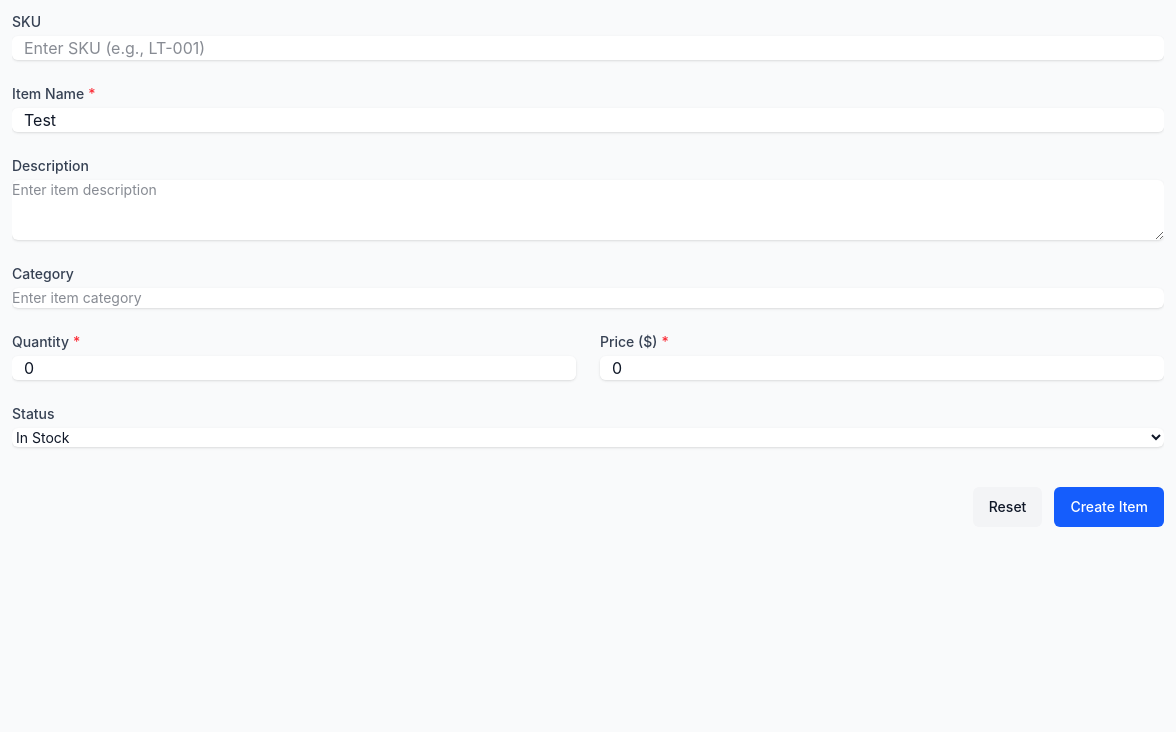
Test: ItemForm › shows error message for negative price
This screenshot has width=1176, height=732.
Replace the text in the number field labelled "Price ($) *" with "-10" at (882, 368), box [600,356,1164,380]
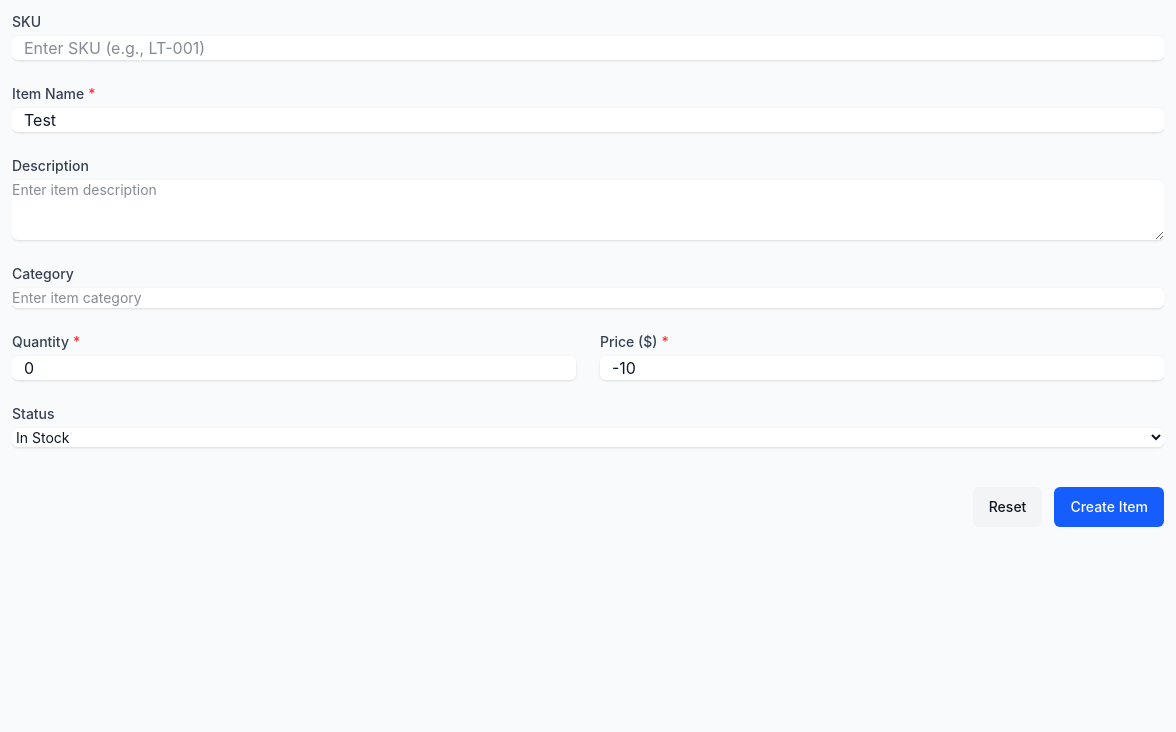
Submit the form
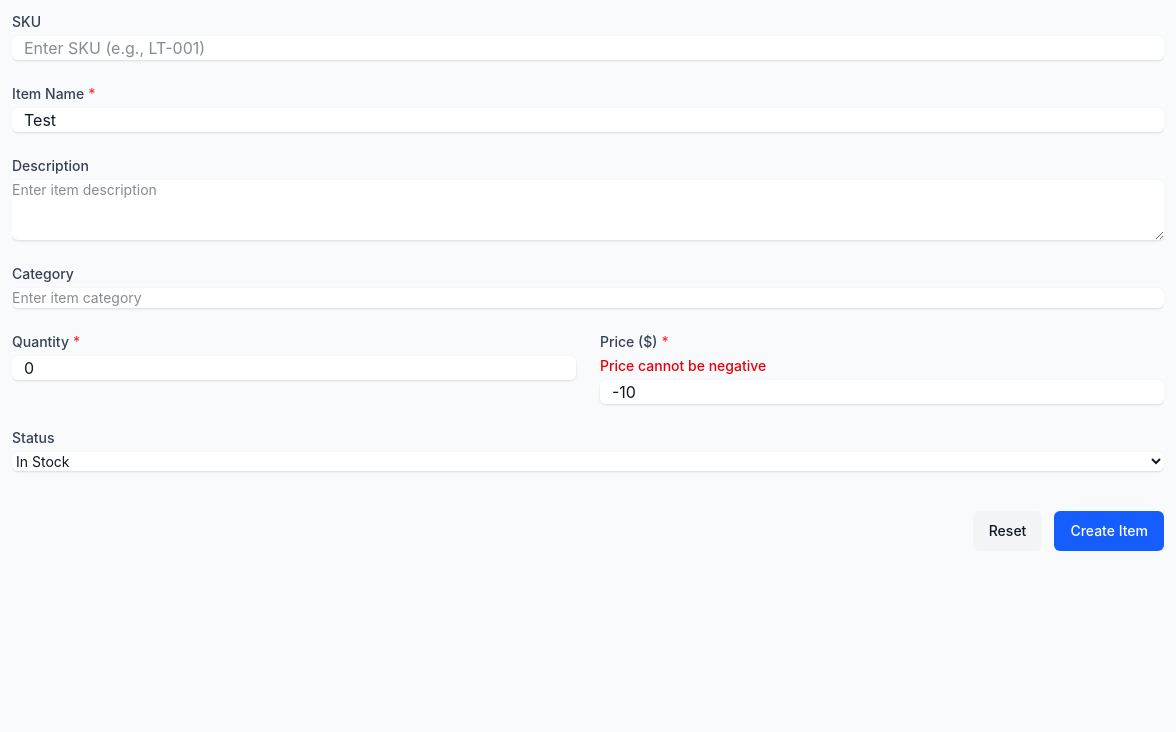
Now the text "Price cannot be negative" is shown, box [600,357,766,374]
